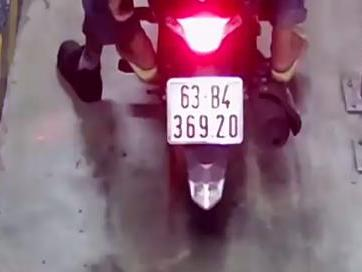num_plate: (165, 74, 245, 146)
